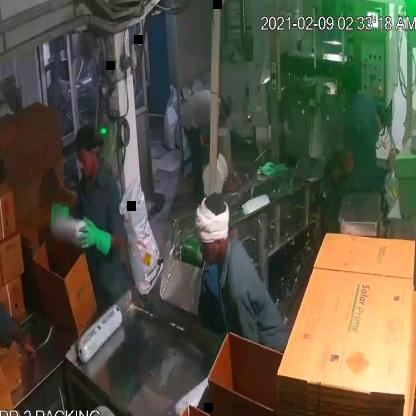glove: (75, 214, 114, 264)
no_glove: (2, 296, 40, 376)
